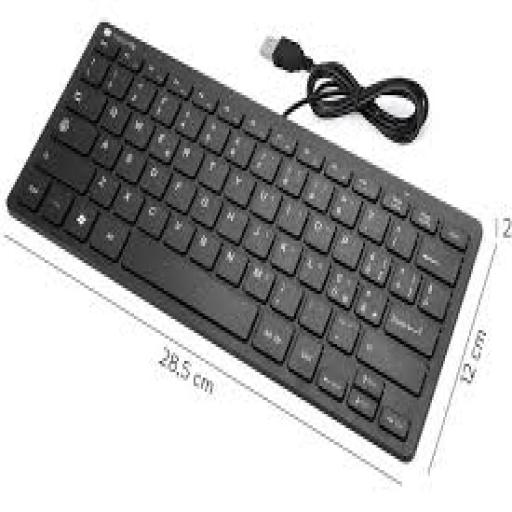KEYBOARD-2: (7, 22, 480, 459)
